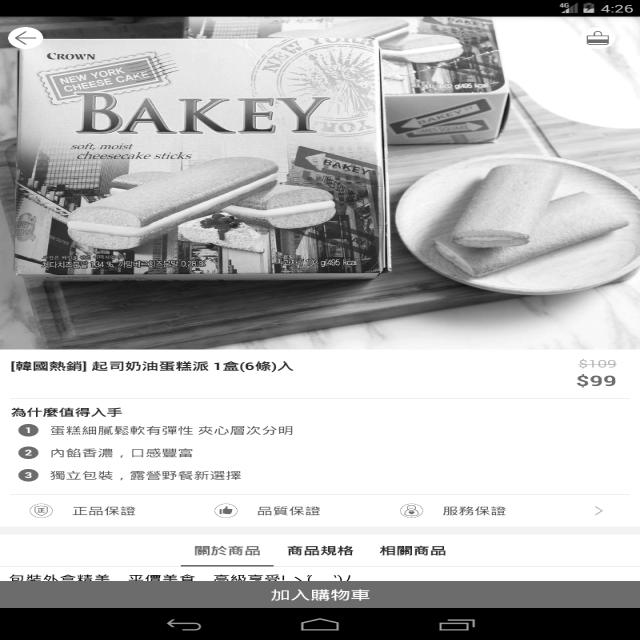Button: (3, 576, 637, 614)
ImageButton: (6, 26, 44, 50), (578, 27, 616, 48)
ImageView: (10, 57, 628, 349), (393, 500, 429, 519), (22, 498, 52, 519), (208, 500, 242, 516), (12, 423, 46, 437), (15, 464, 40, 480)
TextView: (6, 357, 299, 375), (10, 403, 121, 419), (568, 358, 625, 388), (282, 540, 359, 557), (66, 500, 142, 516), (187, 539, 262, 555), (441, 504, 513, 517)
